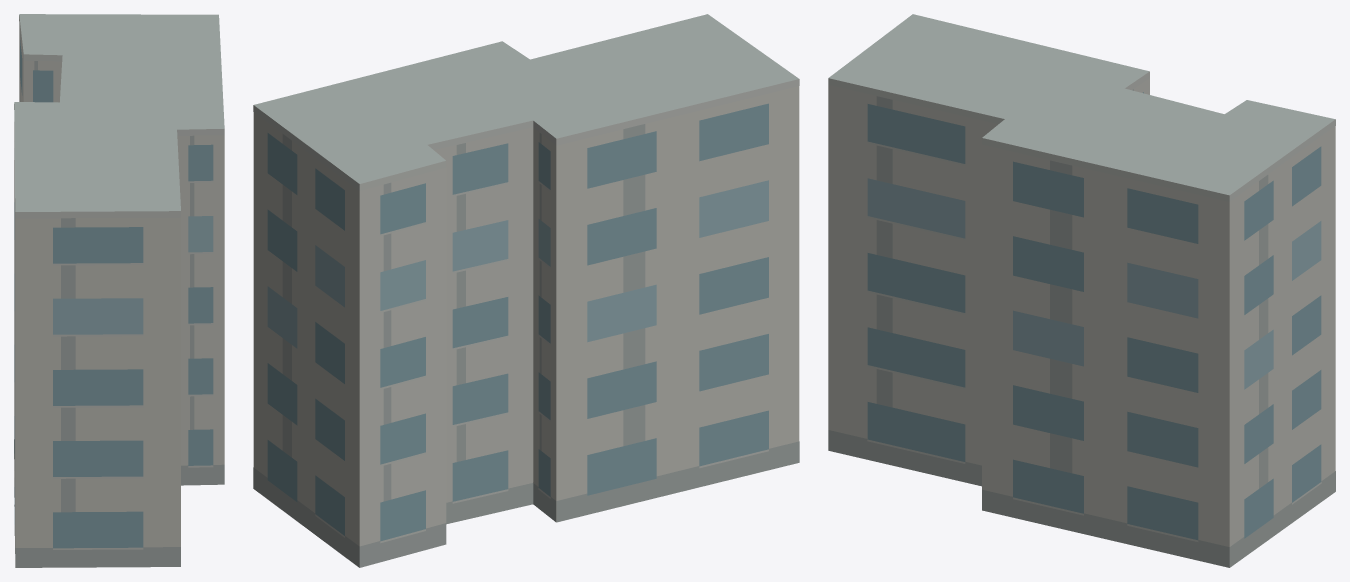
Rendered from survey-upis-32799688.glb.
3 renders of one model, left to right at view 1: azimuth 30°, elevation 25°; view 2: azimuth 150°, elevation 25°; view 3: azimuth 270°, elevation 25°, orthographic. The views are drawn at different scales.
Parts seen in each view (by area): view 1: survey-upis-32799688.tmp; view 2: survey-upis-32799688.tmp; view 3: survey-upis-32799688.tmp.
Part boxes in pixels (left/top/right/bottom): survey-upis-32799688.tmp: left=14, top=14, right=224, bottom=567; survey-upis-32799688.tmp: left=253, top=14, right=799, bottom=567; survey-upis-32799688.tmp: left=828, top=14, right=1335, bottom=567.
Size of the model in its own units: 14.11 by 13.5 by 16.68.
